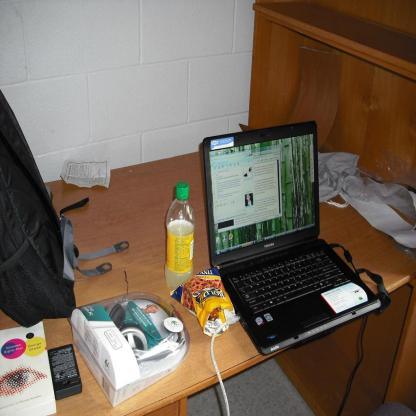board: (201, 122, 373, 356), (164, 180, 194, 296)
